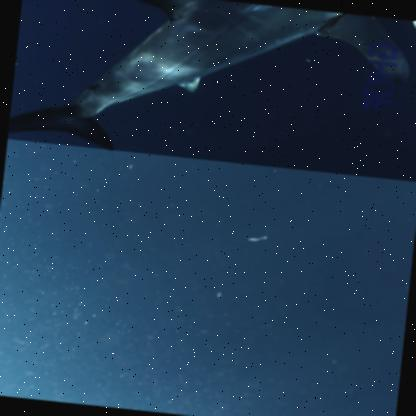mako-shark: (6, 0, 415, 184)
